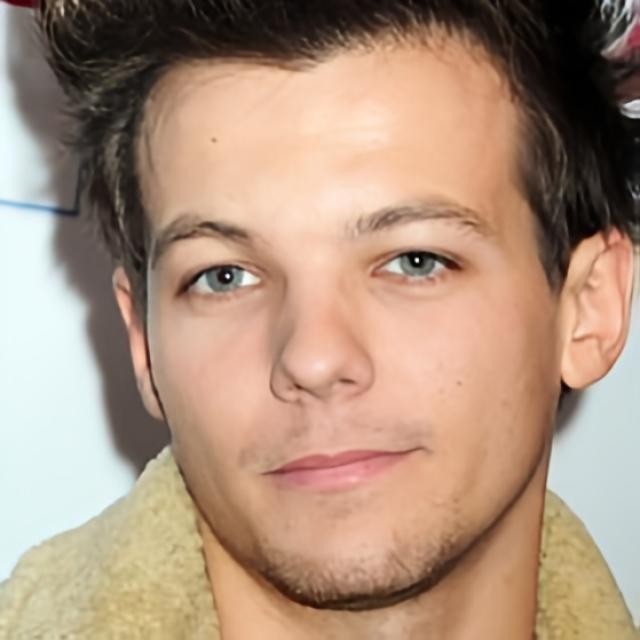content: (143, 32, 561, 610)
